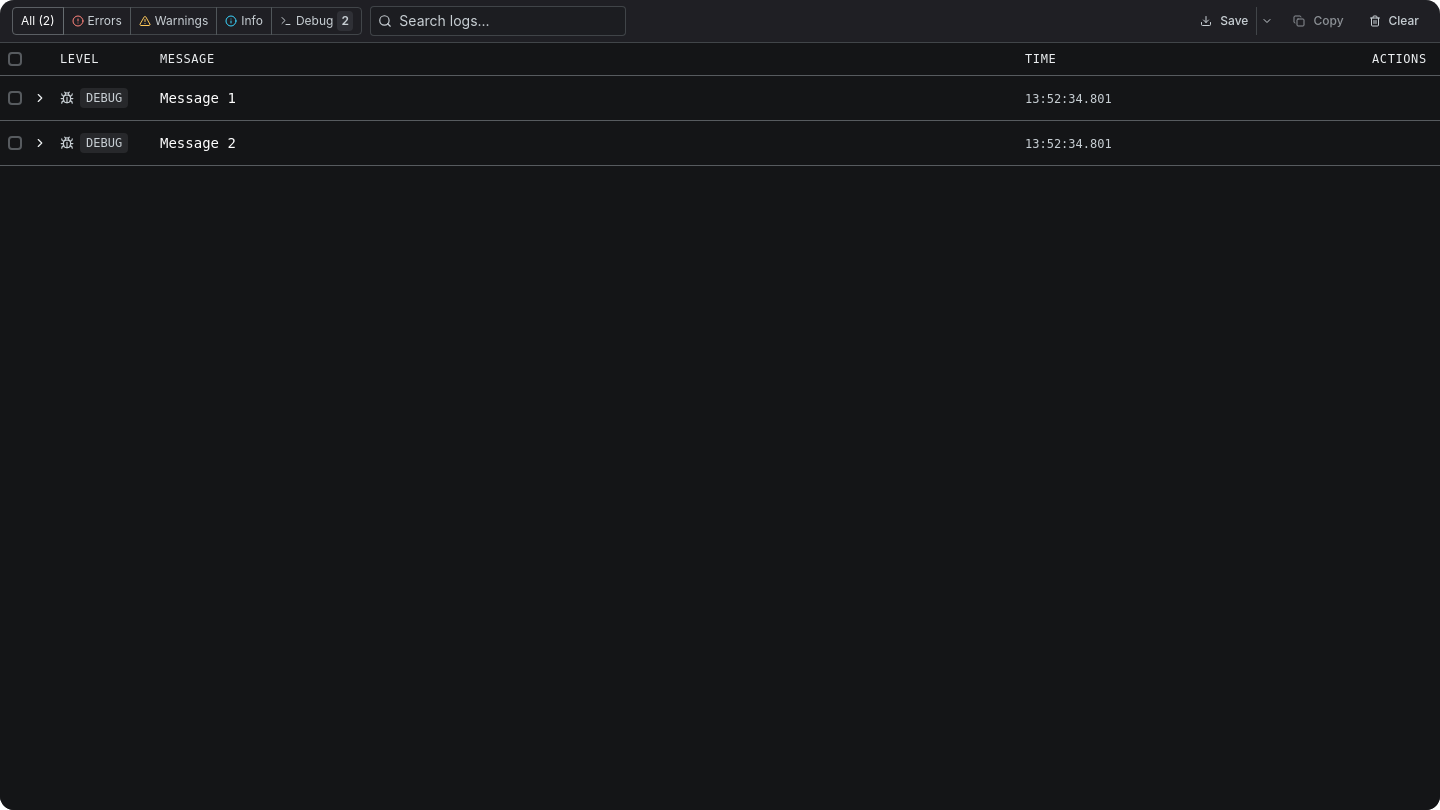
Scenario: ConsolePanel › clears logs when clear button is clicked
This screenshot has width=1440, height=810.
Expected: the row with test id "console-log-row-msg-1" is shown, [0,76,1439,120]
Click the button with test id "console-clear-button": coordinates (1394, 21) [1360,7,1428,35]
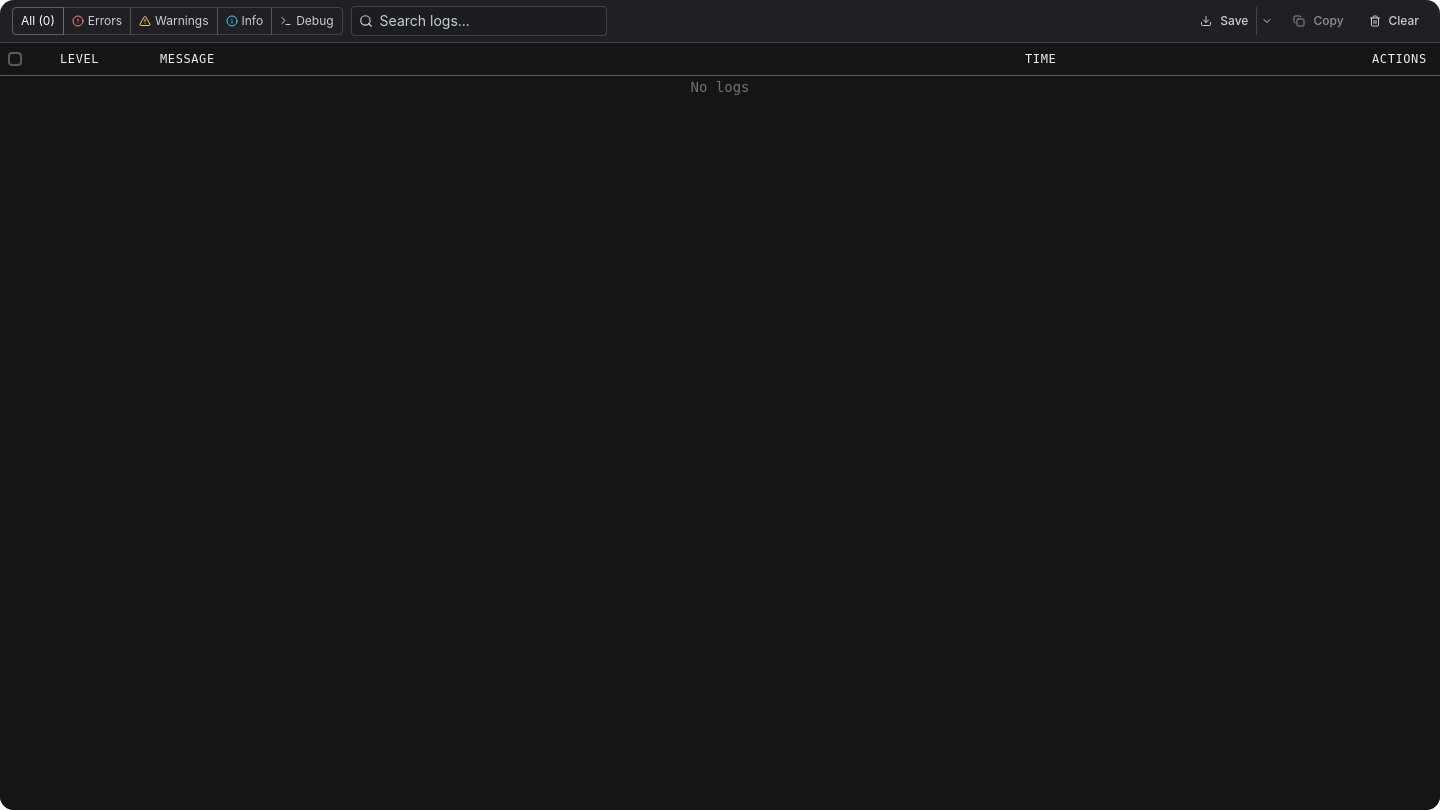
Result: the text "No logs" is shown at [690,76,750,99]
